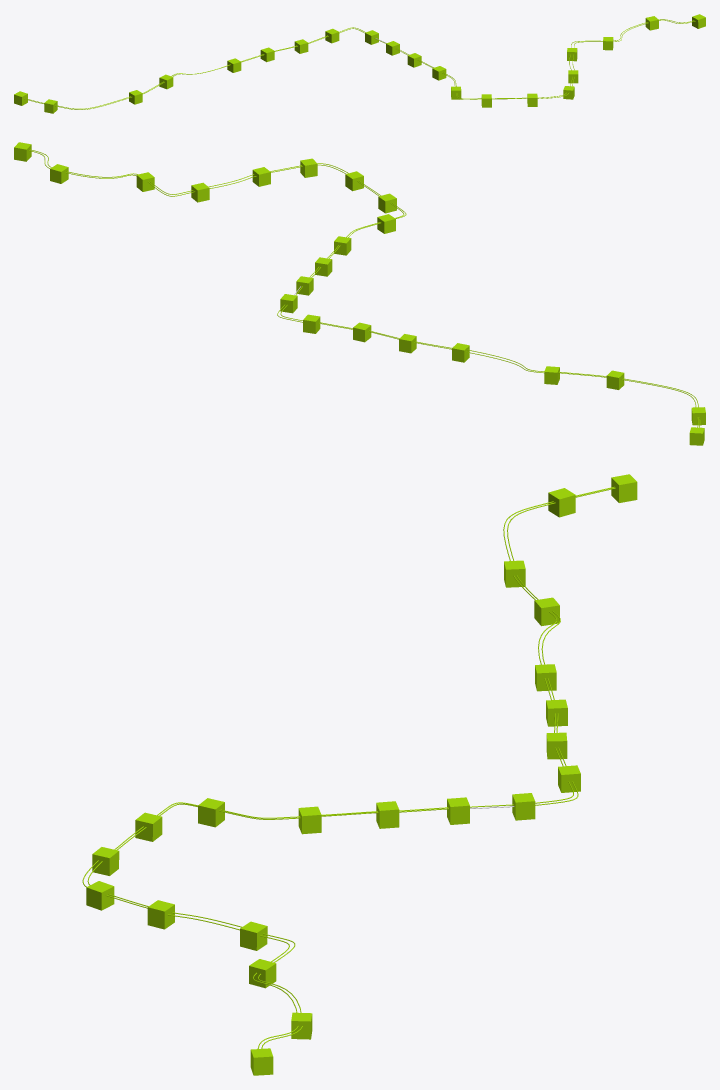
The model's file is subway_map_just_G.glb.
3 views of the same model, one above another, from view 1: azimuth 30°, elevation 25°; view 2: azimuth 150°, elevation 25°; view 3: azimuth 270°, elevation 25° (orthographic). The views are drawn at different scales.
Visible parts, largest first — view 1: 04_Nassau_Av_G, 05_Metropolitan_Lorimer_G, 06_Broadway_G, 11_Clinton_Washington_G, 08_Myrtle_Willoughby_G.; view 2: no part large enough to name; view 3: no part large enough to name.
Part boxes in pixels (x1,y1,x2,y2): 04_Nassau_Av_G: (159,74,173,89); 05_Metropolitan_Lorimer_G: (227,58,241,72); 06_Broadway_G: (260,47,274,62); 11_Clinton_Washington_G: (407,53,421,67); 08_Myrtle_Willoughby_G.: (325,28,339,43).
Bounding box in the file's own units: 27.81 × 0.4025 × 11.17.
